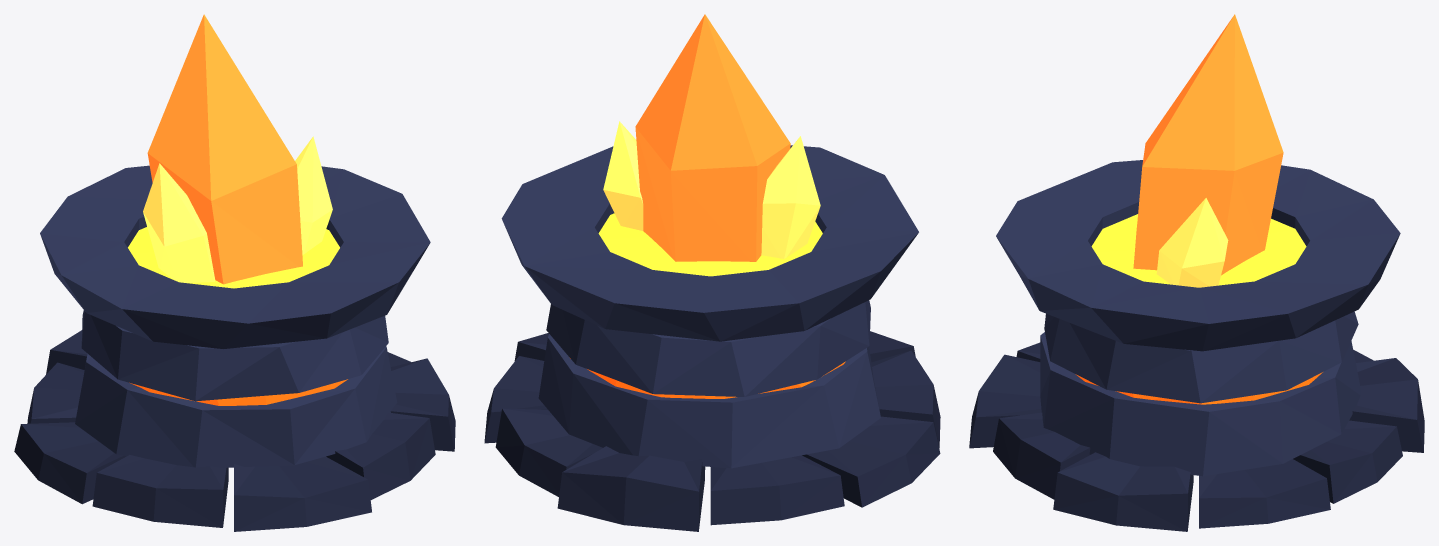
Rendered from forge_final.glb.
3 views of the same model, side by side, from view 1: azimuth 30°, elevation 25°; view 2: azimuth 150°, elevation 25°; view 3: azimuth 270°, elevation 25° (orthographic). The views are drawn at different scales.
Parts seen in each view (by area): view 1: SM_Forge_Lip, SM_Forge_Base, SM_Forge_Flame, SM_Forge_DrumLow, SM_Forge_DrumHigh, SM_Forge_FlameLeft, SM_Forge_Pool, SM_Forge_FlameRight, SM_Forge_SeamLow; view 2: SM_Forge_Lip, SM_Forge_Base, SM_Forge_Flame, SM_Forge_DrumLow, SM_Forge_DrumHigh, SM_Forge_FlameLeft, SM_Forge_Pool, SM_Forge_FlameRight, SM_Forge_SeamLow; view 3: SM_Forge_Lip, SM_Forge_Base, SM_Forge_Flame, SM_Forge_DrumLow, SM_Forge_DrumHigh, SM_Forge_Pool, SM_Forge_FlameRight, SM_Forge_SeamLow.
Boxes of the visible parts, bbox=[...] form: SM_Forge_Lip: bbox=[40, 165, 430, 348]; SM_Forge_Base: bbox=[14, 330, 455, 531]; SM_Forge_Flame: bbox=[147, 14, 302, 284]; SM_Forge_DrumLow: bbox=[75, 346, 397, 467]; SM_Forge_DrumHigh: bbox=[81, 310, 388, 401]; SM_Forge_FlameLeft: bbox=[143, 163, 215, 282]; SM_Forge_Pool: bbox=[128, 227, 339, 288]; SM_Forge_FlameRight: bbox=[295, 136, 332, 254]; SM_Forge_SeamLow: bbox=[129, 379, 347, 405]; SM_Forge_Lip: bbox=[501, 145, 918, 341]; SM_Forge_Base: bbox=[484, 331, 940, 531]; SM_Forge_Flame: bbox=[635, 14, 790, 261]; SM_Forge_DrumLow: bbox=[538, 334, 880, 468]; SM_Forge_DrumHigh: bbox=[546, 300, 870, 396]; SM_Forge_FlameLeft: bbox=[761, 136, 820, 258]; SM_Forge_Pool: bbox=[598, 213, 822, 276]; SM_Forge_FlameRight: bbox=[603, 121, 643, 230]; SM_Forge_SeamLow: bbox=[570, 358, 845, 398]; SM_Forge_Lip: bbox=[996, 160, 1400, 351]; SM_Forge_Base: bbox=[969, 342, 1424, 531]; SM_Forge_Flame: bbox=[1133, 14, 1283, 275]; SM_Forge_DrumLow: bbox=[1040, 332, 1361, 476]; SM_Forge_DrumHigh: bbox=[1044, 311, 1358, 403]; SM_Forge_Pool: bbox=[1091, 214, 1306, 285]; SM_Forge_FlameRight: bbox=[1156, 198, 1228, 287]; SM_Forge_SeamLow: bbox=[1075, 372, 1322, 404].
Size of the model in its own units: 1.26 by 1.28 by 1.27.
